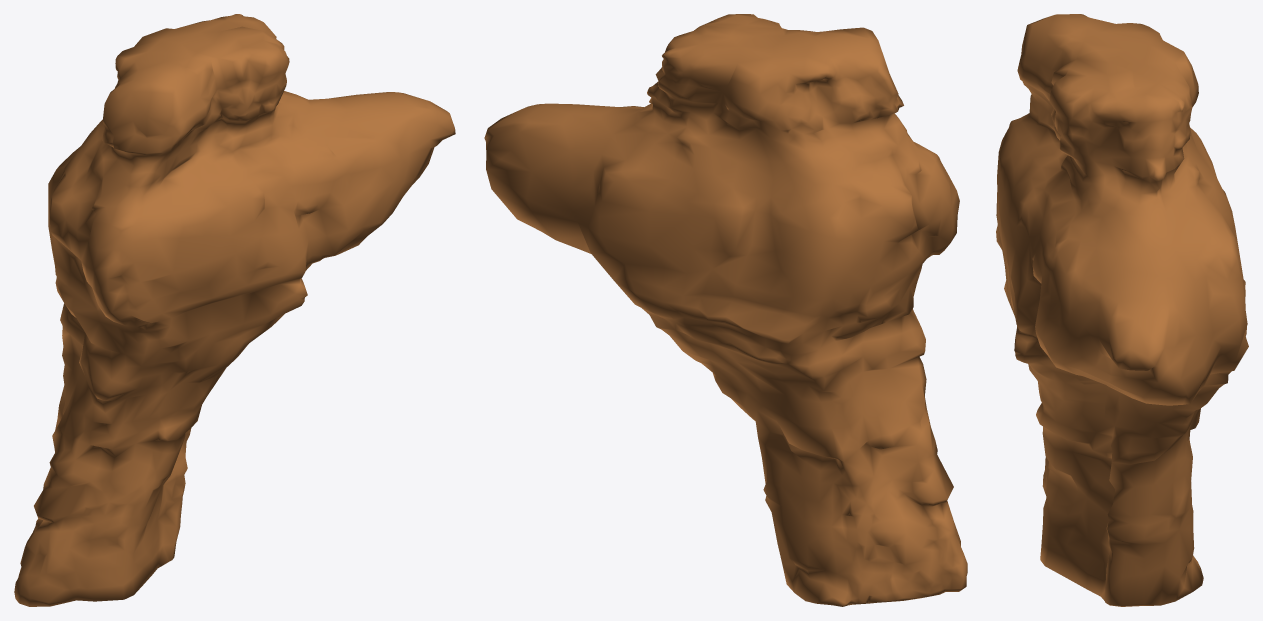
File: MSH_Rocks_Cliff_18_b.FBX
3 renders of one model, left to right at view 1: azimuth 30°, elevation 25°; view 2: azimuth 150°, elevation 25°; view 3: azimuth 270°, elevation 25°, orthographic. The views are drawn at different scales.
Visible parts, largest first — view 1: MESH_LOD0; view 2: MESH_LOD0; view 3: MESH_LOD0.
Boxes of the visible parts, <box> form: MESH_LOD0: <box>14,14,455,606</box>; MESH_LOD0: <box>484,14,967,606</box>; MESH_LOD0: <box>996,14,1248,606</box>.
Size of what is drawn, in the model's own units: 541 by 590 by 234.
